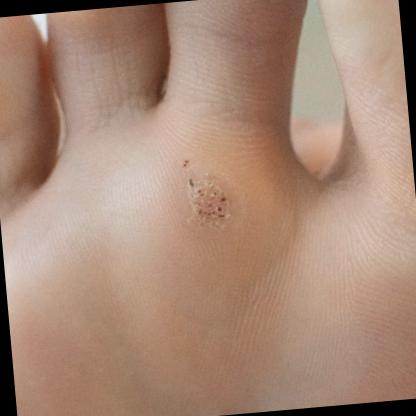Warts: (181, 166, 243, 234)
